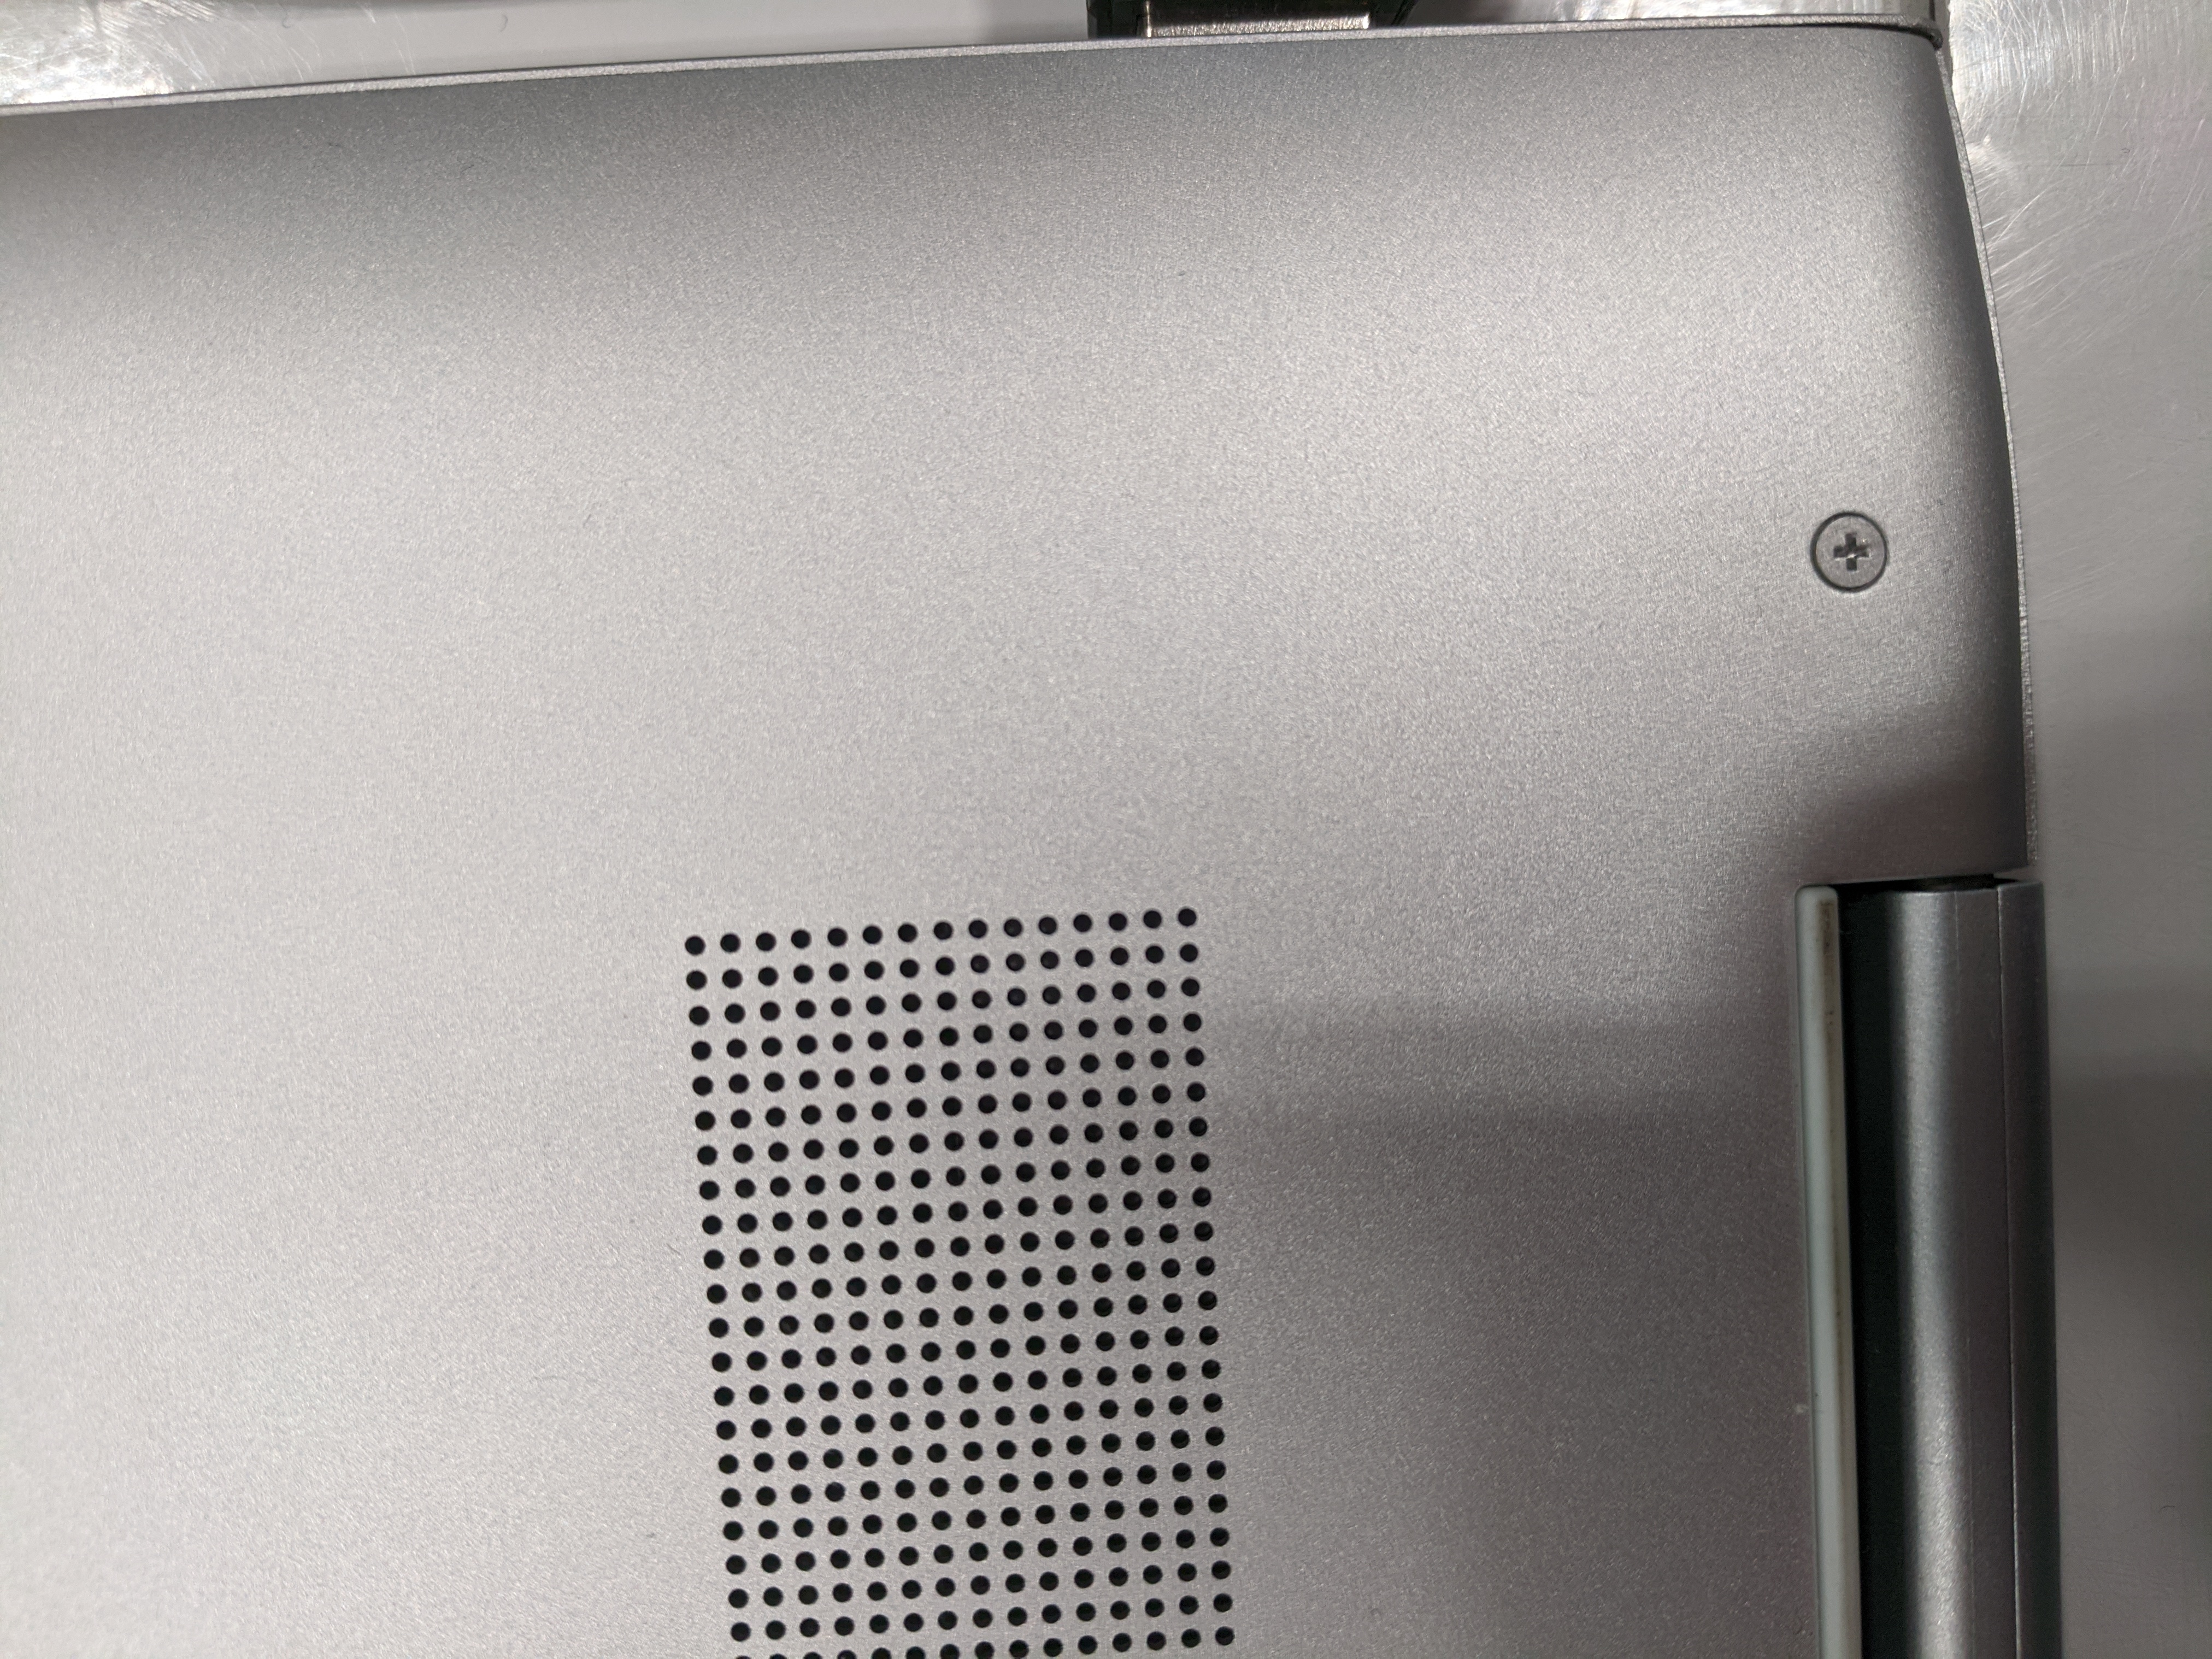cross_recessed_screw: (1810, 500, 1897, 594)
